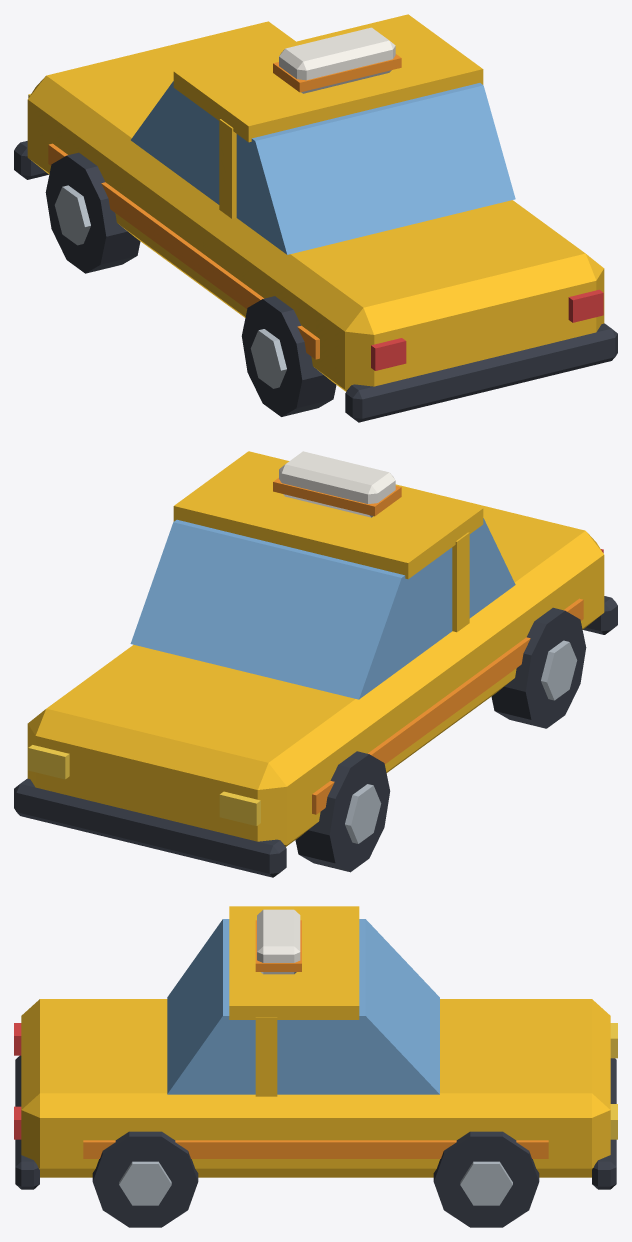
Rendered from veiculos-taxi.glb.
The picture shows the model from 3 angles, top to bottom: view 1: azimuth 30°, elevation 25°; view 2: azimuth 150°, elevation 25°; view 3: azimuth 270°, elevation 25°; orthographic projection. The views are drawn at different scales.
Visible parts, largest first — view 1: corpo; view 2: corpo; view 3: corpo.
Part boxes in pixels (x1,y1,x2,y2): corpo: (14, 14, 617, 422); corpo: (14, 451, 617, 877); corpo: (14, 906, 617, 1227).
Bounding box in the file's own units: 0.48 × 0.4258 × 0.974.
